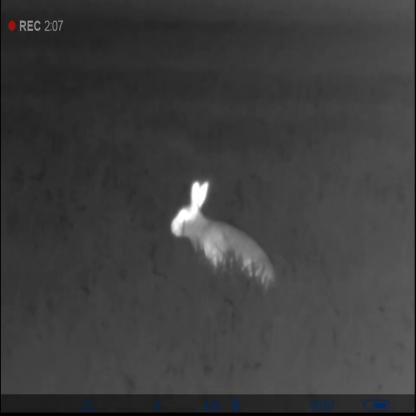rehkitze: (167, 181, 278, 292)
